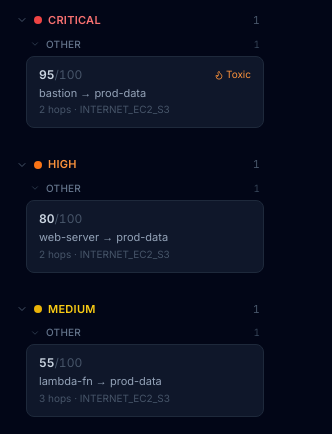
Test: AttackPathList › collapses and re-expands the severity group on click
Expected: the text "bastion → prod-data" is shown, left=39, top=86, right=146, bottom=100
Step 1. Click the button "Critical 1" → (138, 20), box left=12, top=12, right=264, bottom=28
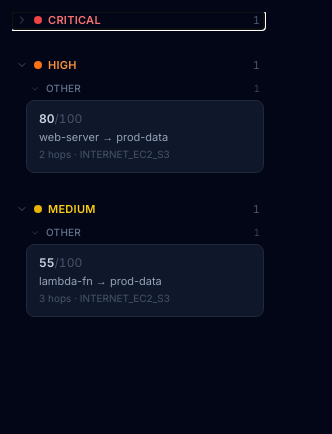
Expected: the button "bastion → prod-data" is gone
Step 2. Click the button "Critical 1" → (138, 20), box left=12, top=12, right=264, bottom=28
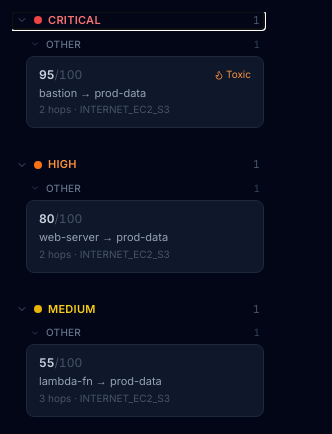
Expected: the text "bastion → prod-data" is shown, left=39, top=86, right=146, bottom=100
